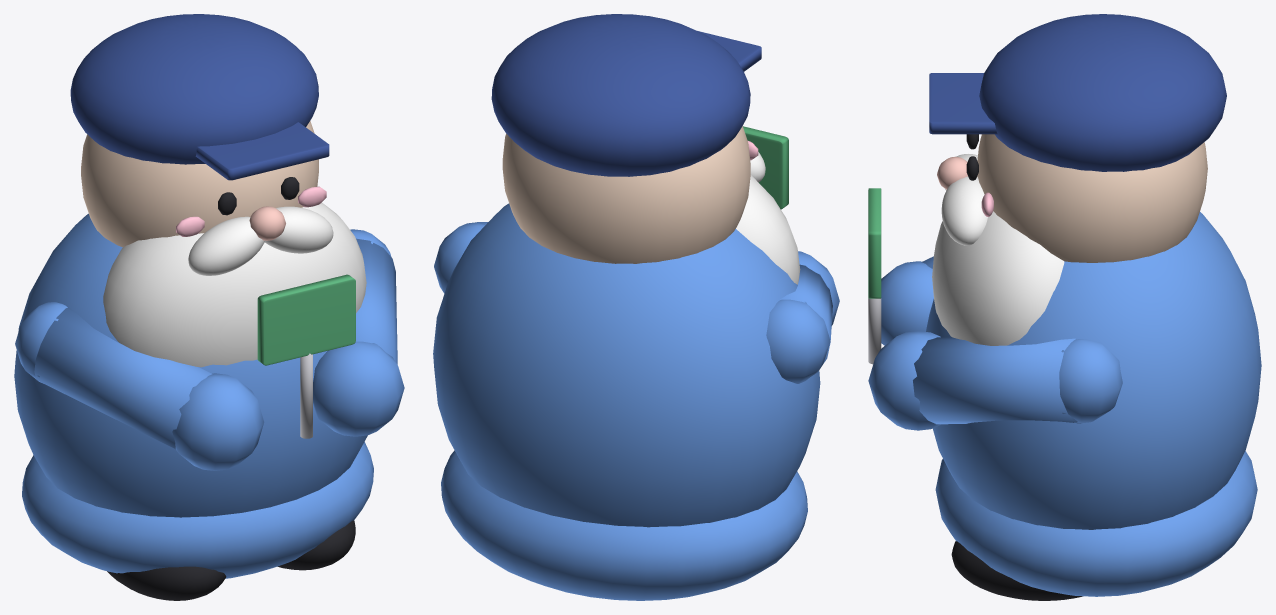
File: bus.glb
3 renders of one model, left to right at view 1: azimuth 30°, elevation 25°; view 2: azimuth 150°, elevation 25°; view 3: azimuth 270°, elevation 25°, orthographic. The views are drawn at different scales.
Visible parts, largest first — view 1: bus_blue, bus_navy, bus_white, bus_skin, bus_green, bus_black, bus_grey, bus_nose, bus_pink; view 2: bus_blue, bus_navy, bus_skin, bus_white, bus_green; view 3: bus_blue, bus_navy, bus_skin, bus_white, bus_black, bus_green, bus_grey, bus_nose.
Boxes of the visible parts, <box> form: bus_blue: <box>14,213,404,578</box>; bus_navy: <box>70,14,329,180</box>; bus_white: <box>103,202,366,367</box>; bus_skin: <box>81,121,318,247</box>; bus_green: <box>257,274,355,365</box>; bus_black: <box>107,177,355,600</box>; bus_grey: <box>300,353,312,438</box>; bus_nose: <box>249,206,285,240</box>; bus_pink: <box>176,186,326,236</box>; bus_blue: <box>433,203,839,600</box>; bus_navy: <box>491,14,761,176</box>; bus_skin: <box>502,126,750,263</box>; bus_white: <box>736,152,800,284</box>; bus_green: <box>743,126,788,209</box>; bus_blue: <box>868,212,1261,596</box>; bus_navy: <box>929,14,1226,171</box>; bus_skin: <box>977,134,1207,262</box>; bus_white: <box>932,154,1064,345</box>; bus_black: <box>951,134,1082,600</box>; bus_green: <box>868,188,881,298</box>; bus_grey: <box>868,297,881,364</box>; bus_nose: <box>937,156,967,189</box>.
Size of the model in its own units: 2 by 2.69 by 1.81.
